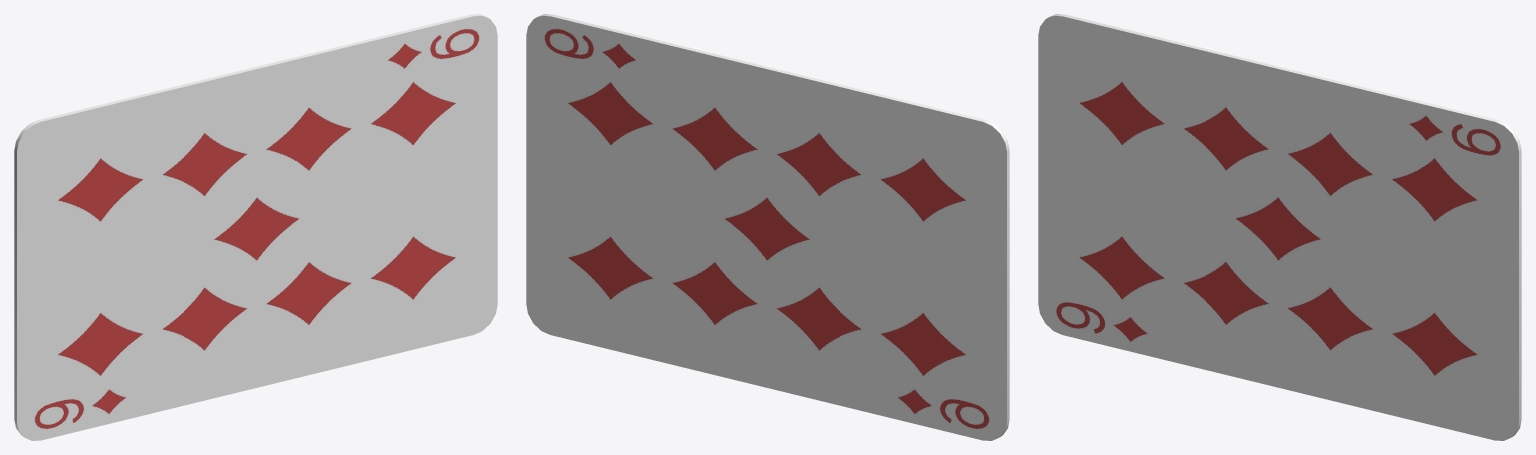
Rendered from Card.fbx.
The picture shows the model from 3 angles, left to right: view 1: azimuth 30°, elevation 25°; view 2: azimuth 150°, elevation 25°; view 3: azimuth 330°, elevation 25°; orthographic projection.
Parts seen in each view (by area): view 1: Card; view 2: Card; view 3: Card.
Part boxes in pixels (x1,y1,x2,y2): Card: [14, 14, 497, 440]; Card: [526, 14, 1009, 440]; Card: [1038, 14, 1521, 440].
Size of the model in its own units: 9000 by 5700 by 84.
Materials: 1 (1 with a texture image).
